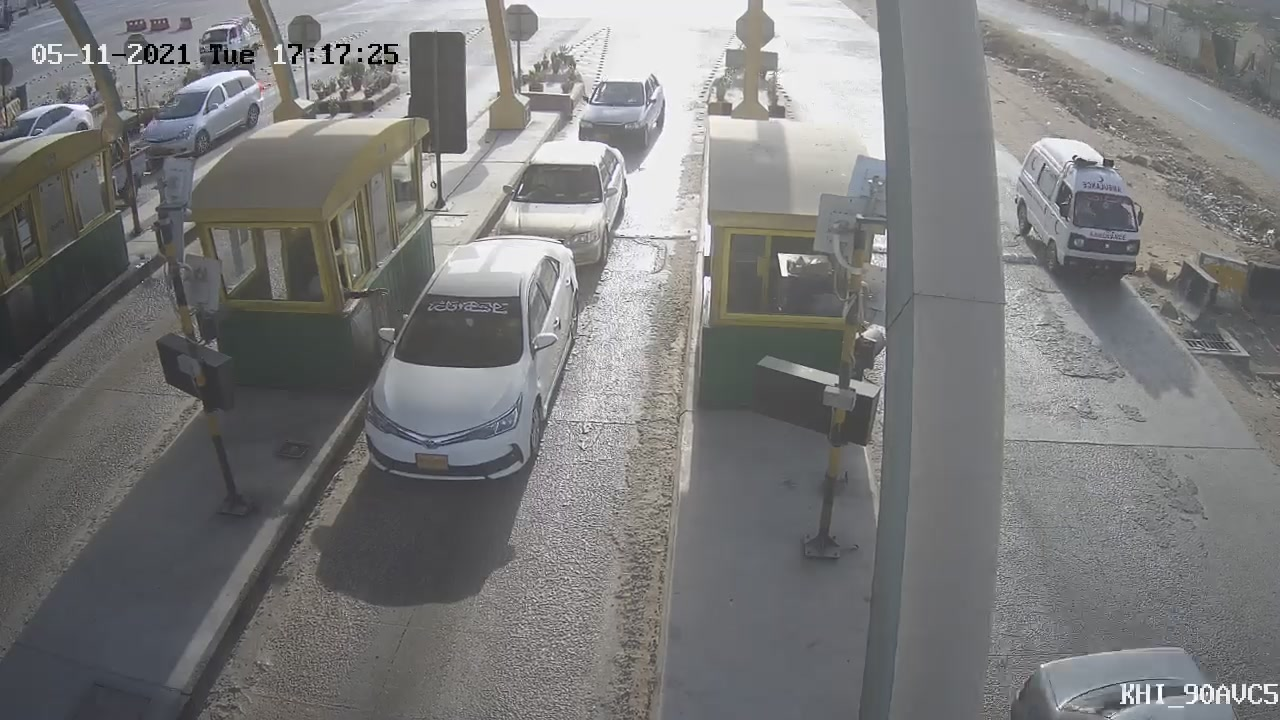F1: (342, 224, 599, 507), (483, 122, 635, 285), (570, 59, 676, 168)
